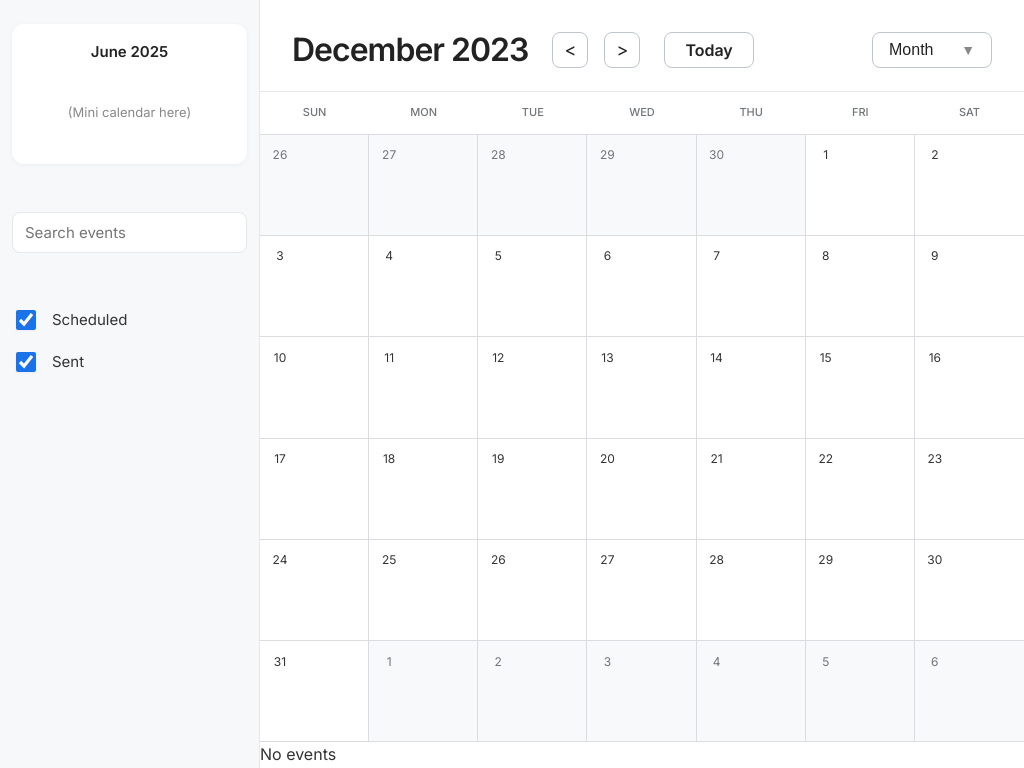
Test: MyCalendar – additional scenarios › wraps year transition correctly when navigating December → January
The width and height of the screenshot is (1024, 768).
Back to November 2023
Click the button "<". click: point(570, 50)
box: [552, 32, 588, 68]
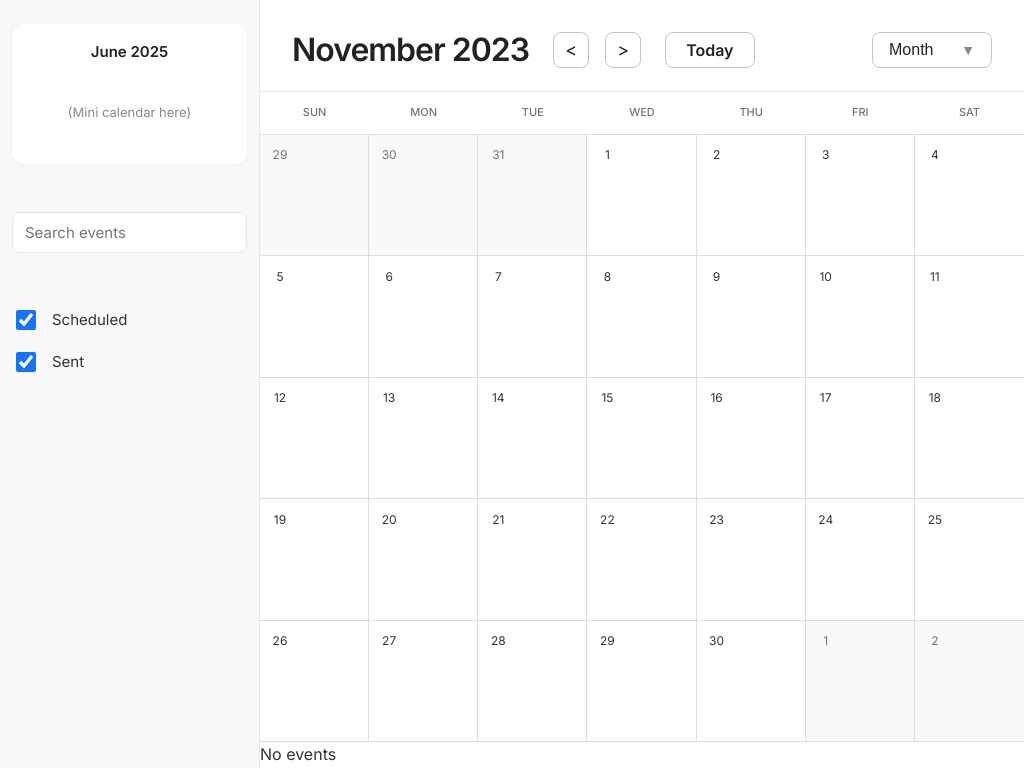
Result: the heading with class "calendar-header-title" reads "November 2023" at [292, 30, 529, 69]
Forward twice into January 2024
Click the button ">". click: point(623, 50)
box: [605, 32, 641, 68]
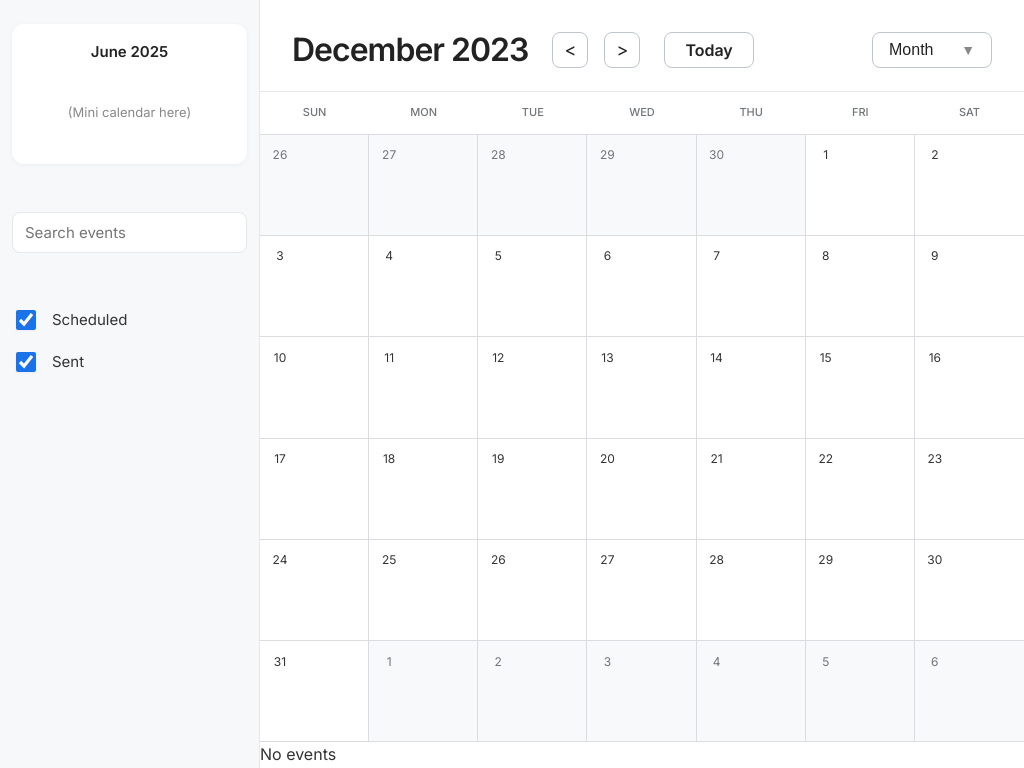
Click the button ">". click: point(622, 50)
box: [604, 32, 640, 68]
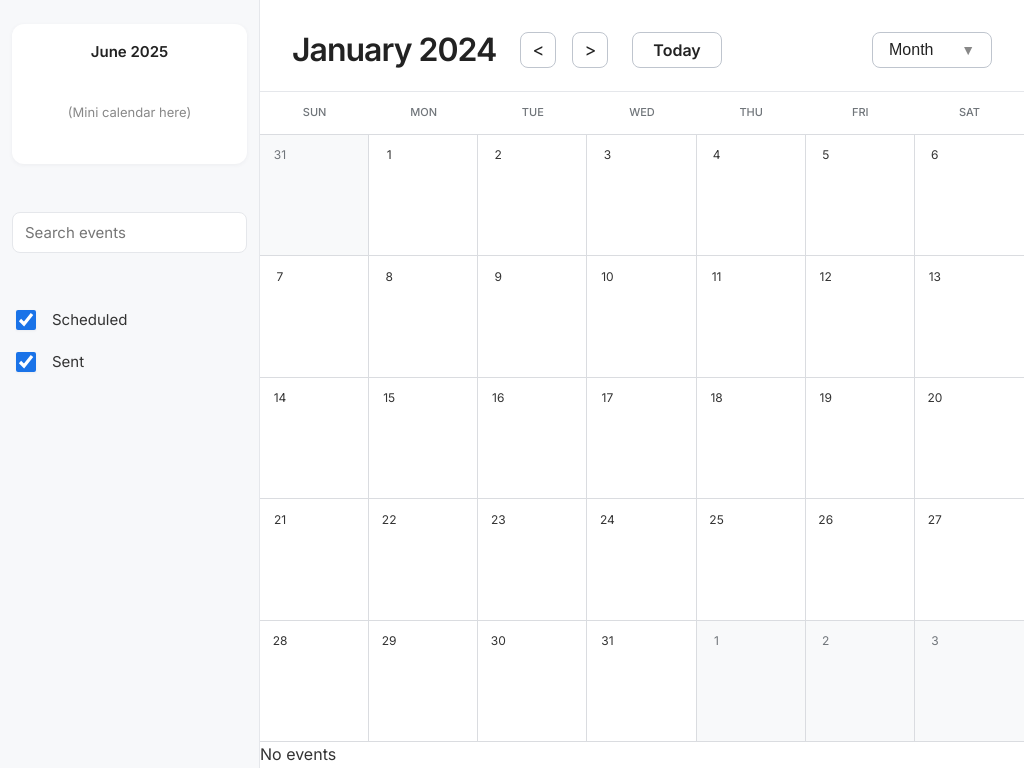
Result: the heading with class "calendar-header-title" reads "January 2024" at [292, 30, 496, 69]
